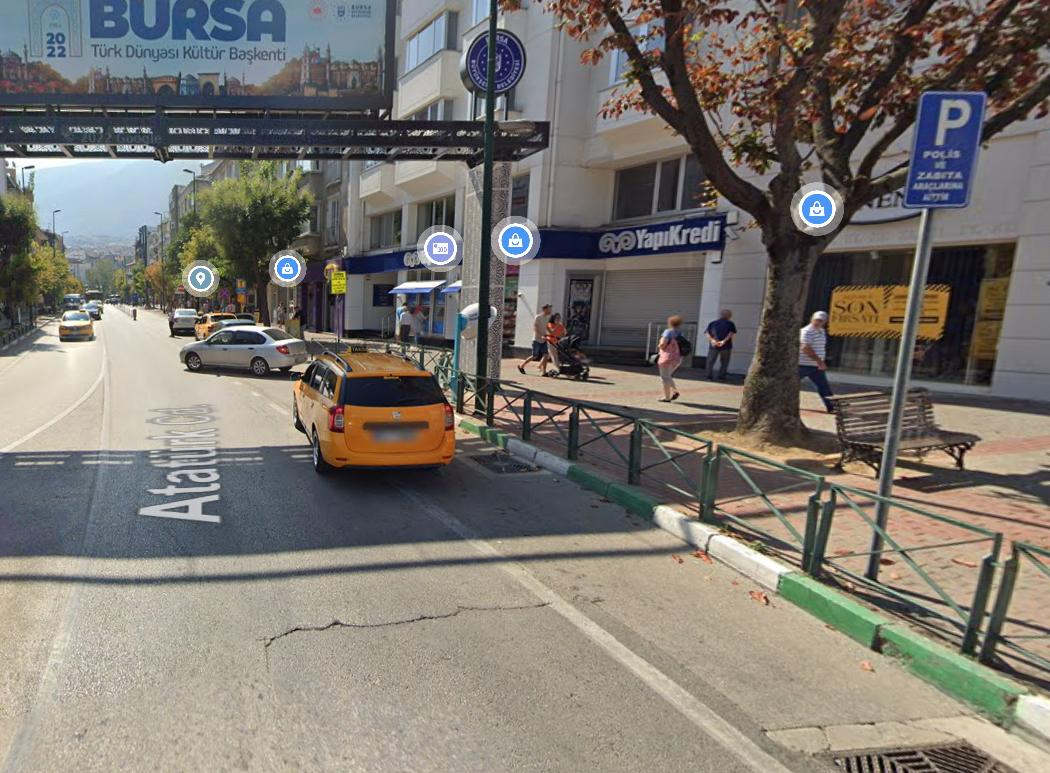park: (923, 93, 979, 146)
